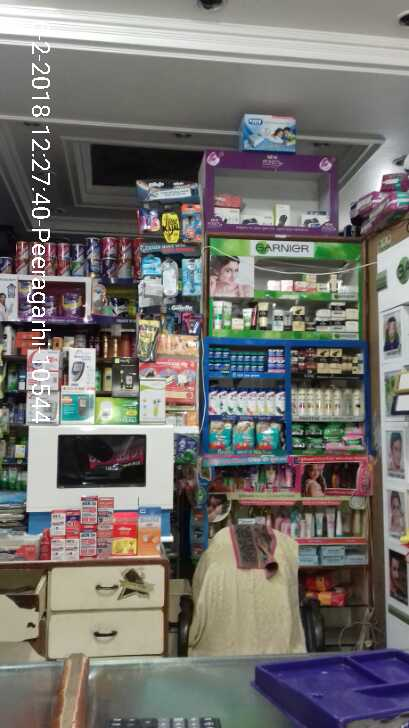vicks: (206, 341, 288, 375)
